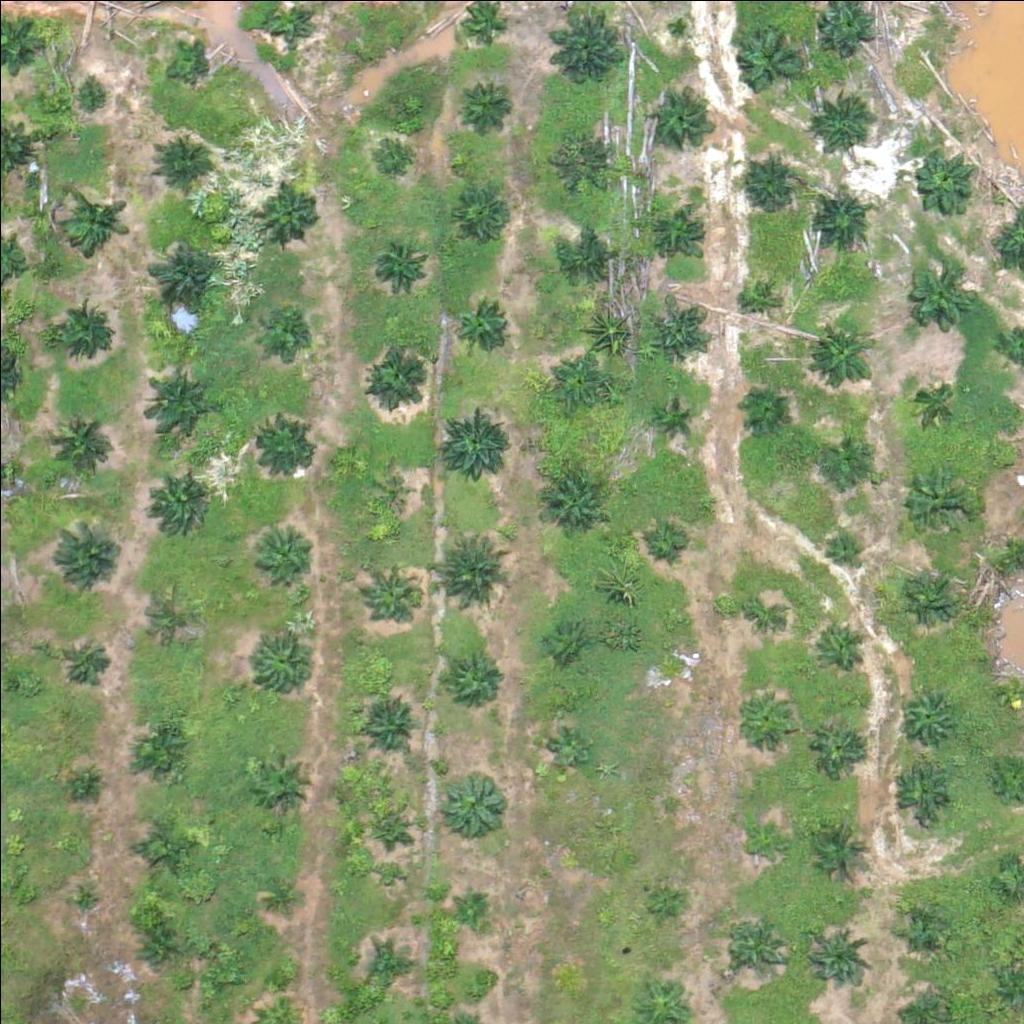Kelapa_Sawit: (897, 470, 972, 546), (46, 280, 121, 356), (143, 361, 218, 437), (50, 508, 125, 584), (42, 406, 117, 482), (550, 8, 625, 84), (736, 21, 811, 97), (54, 178, 129, 254), (438, 528, 513, 603), (436, 414, 511, 489), (145, 230, 220, 305), (649, 304, 712, 367), (912, 263, 975, 326), (444, 776, 507, 839), (890, 758, 953, 821), (368, 342, 431, 405), (363, 235, 426, 298), (815, 86, 878, 149), (916, 154, 979, 217), (648, 85, 711, 148), (149, 124, 212, 187), (257, 176, 320, 239), (814, 322, 876, 385), (546, 466, 608, 529), (444, 649, 506, 712), (899, 566, 961, 629), (811, 814, 873, 877), (724, 913, 786, 976), (808, 930, 870, 993), (361, 692, 423, 755), (251, 412, 313, 475), (148, 470, 210, 533), (251, 748, 313, 811), (131, 715, 193, 778), (253, 628, 315, 691), (249, 517, 311, 580), (359, 563, 421, 626), (550, 126, 612, 189), (132, 814, 194, 877), (894, 680, 956, 742), (809, 185, 871, 247), (742, 157, 804, 219), (556, 351, 606, 402), (461, 300, 511, 351), (368, 938, 418, 989), (457, 187, 507, 238), (157, 38, 207, 89), (364, 129, 414, 180), (62, 634, 112, 685), (561, 230, 611, 280), (810, 724, 860, 774), (740, 692, 790, 742), (827, 429, 877, 479), (262, 307, 312, 357), (462, 77, 512, 127), (657, 207, 707, 257), (147, 590, 197, 640), (741, 382, 791, 432), (910, 373, 960, 423), (367, 796, 417, 846), (896, 905, 946, 955), (815, 620, 865, 670), (74, 73, 112, 111), (737, 273, 775, 311), (824, 530, 862, 568), (62, 877, 100, 915), (138, 925, 176, 963), (259, 872, 297, 910), (747, 819, 785, 857), (649, 636, 687, 674), (743, 594, 781, 632), (545, 620, 582, 658), (370, 471, 407, 509), (659, 398, 696, 436), (644, 523, 682, 560), (453, 888, 490, 926), (645, 883, 682, 920), (550, 733, 587, 770), (73, 773, 98, 799), (996, 448, 1021, 473)
